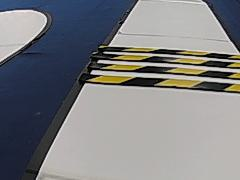bump: (81, 42, 239, 97)
